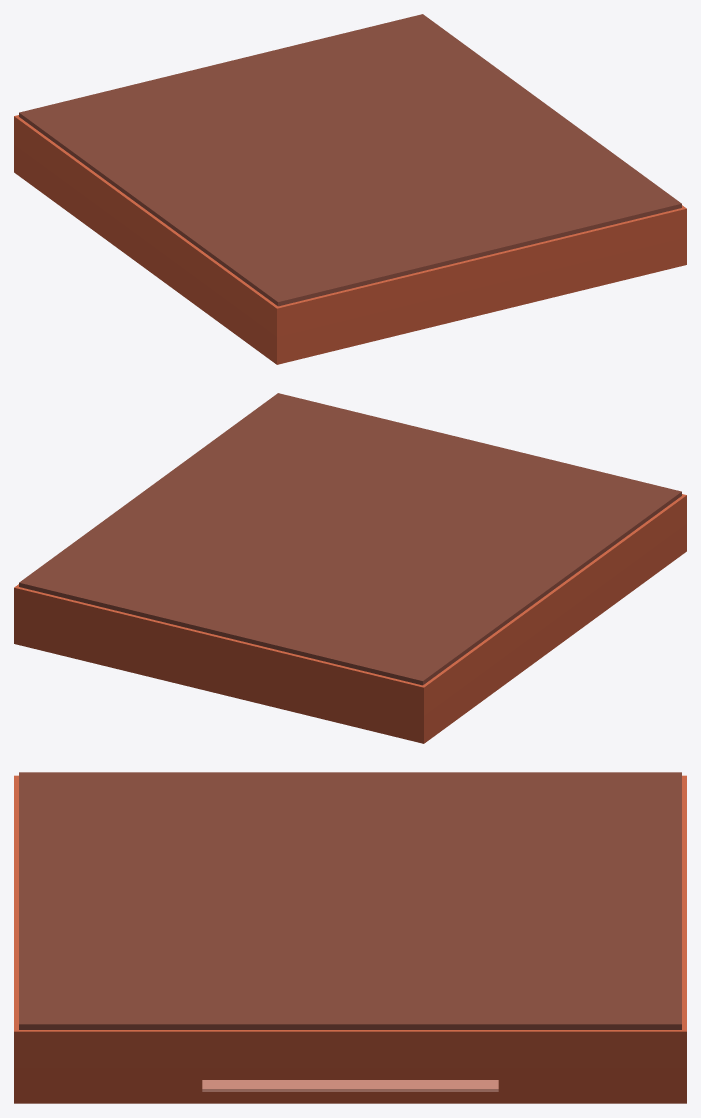
3 views of the same model, one above another, from view 1: azimuth 30°, elevation 25°; view 2: azimuth 150°, elevation 25°; view 3: azimuth 270°, elevation 25° (orthographic). The views are drawn at different scales.
Visible parts, largest first — view 1: shell; view 2: shell; view 3: shell.
Boxes of the visible parts, <box> form: shell: <box>14,14,686,364</box>; shell: <box>14,393,686,743</box>; shell: <box>14,772,686,1103</box>.
Bounding box in the file's own units: 93.2 × 12.7 × 100.
